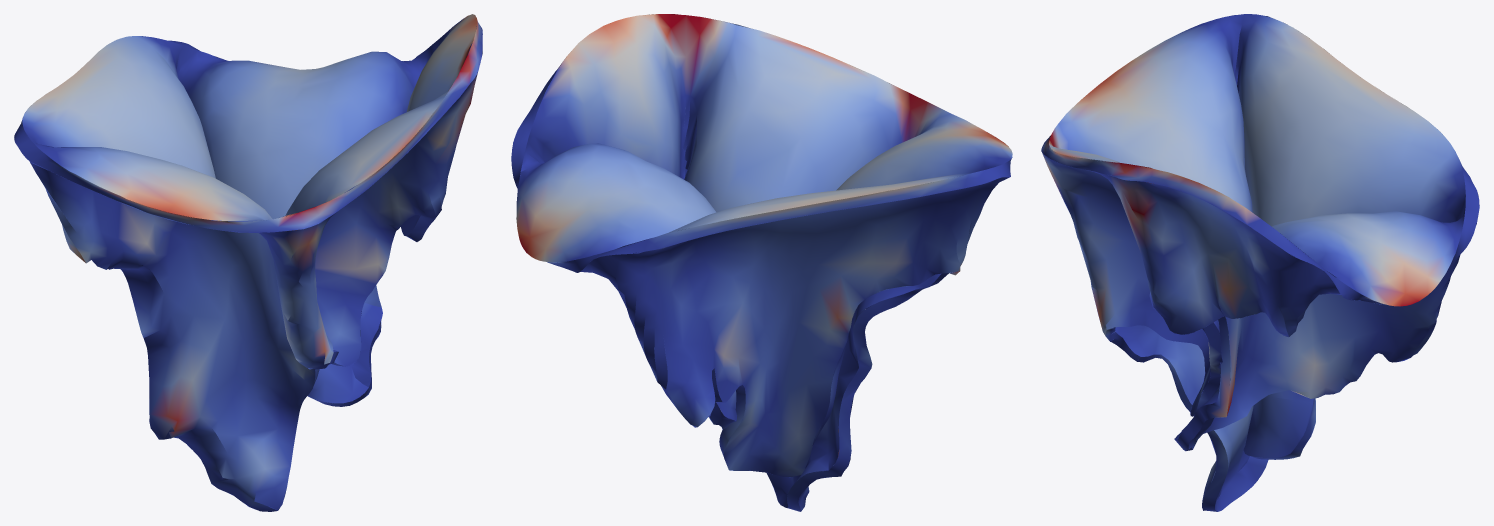
3 renders of one model, left to right at view 1: azimuth 30°, elevation 25°; view 2: azimuth 150°, elevation 25°; view 3: azimuth 270°, elevation 25°, orthographic. The views are drawn at different scales.
Visible parts, largest first — view 1: OCS14_maxS_16; view 2: OCS14_maxS_16; view 3: OCS14_maxS_16.
Boxes of the visible parts, left/top/right/bottom form: OCS14_maxS_16: left=14, top=14, right=482, bottom=511; OCS14_maxS_16: left=511, top=14, right=1012, bottom=511; OCS14_maxS_16: left=1041, top=14, right=1479, bottom=511.
Size of the model in its own units: 1.4 by 1.29 by 1.21.
